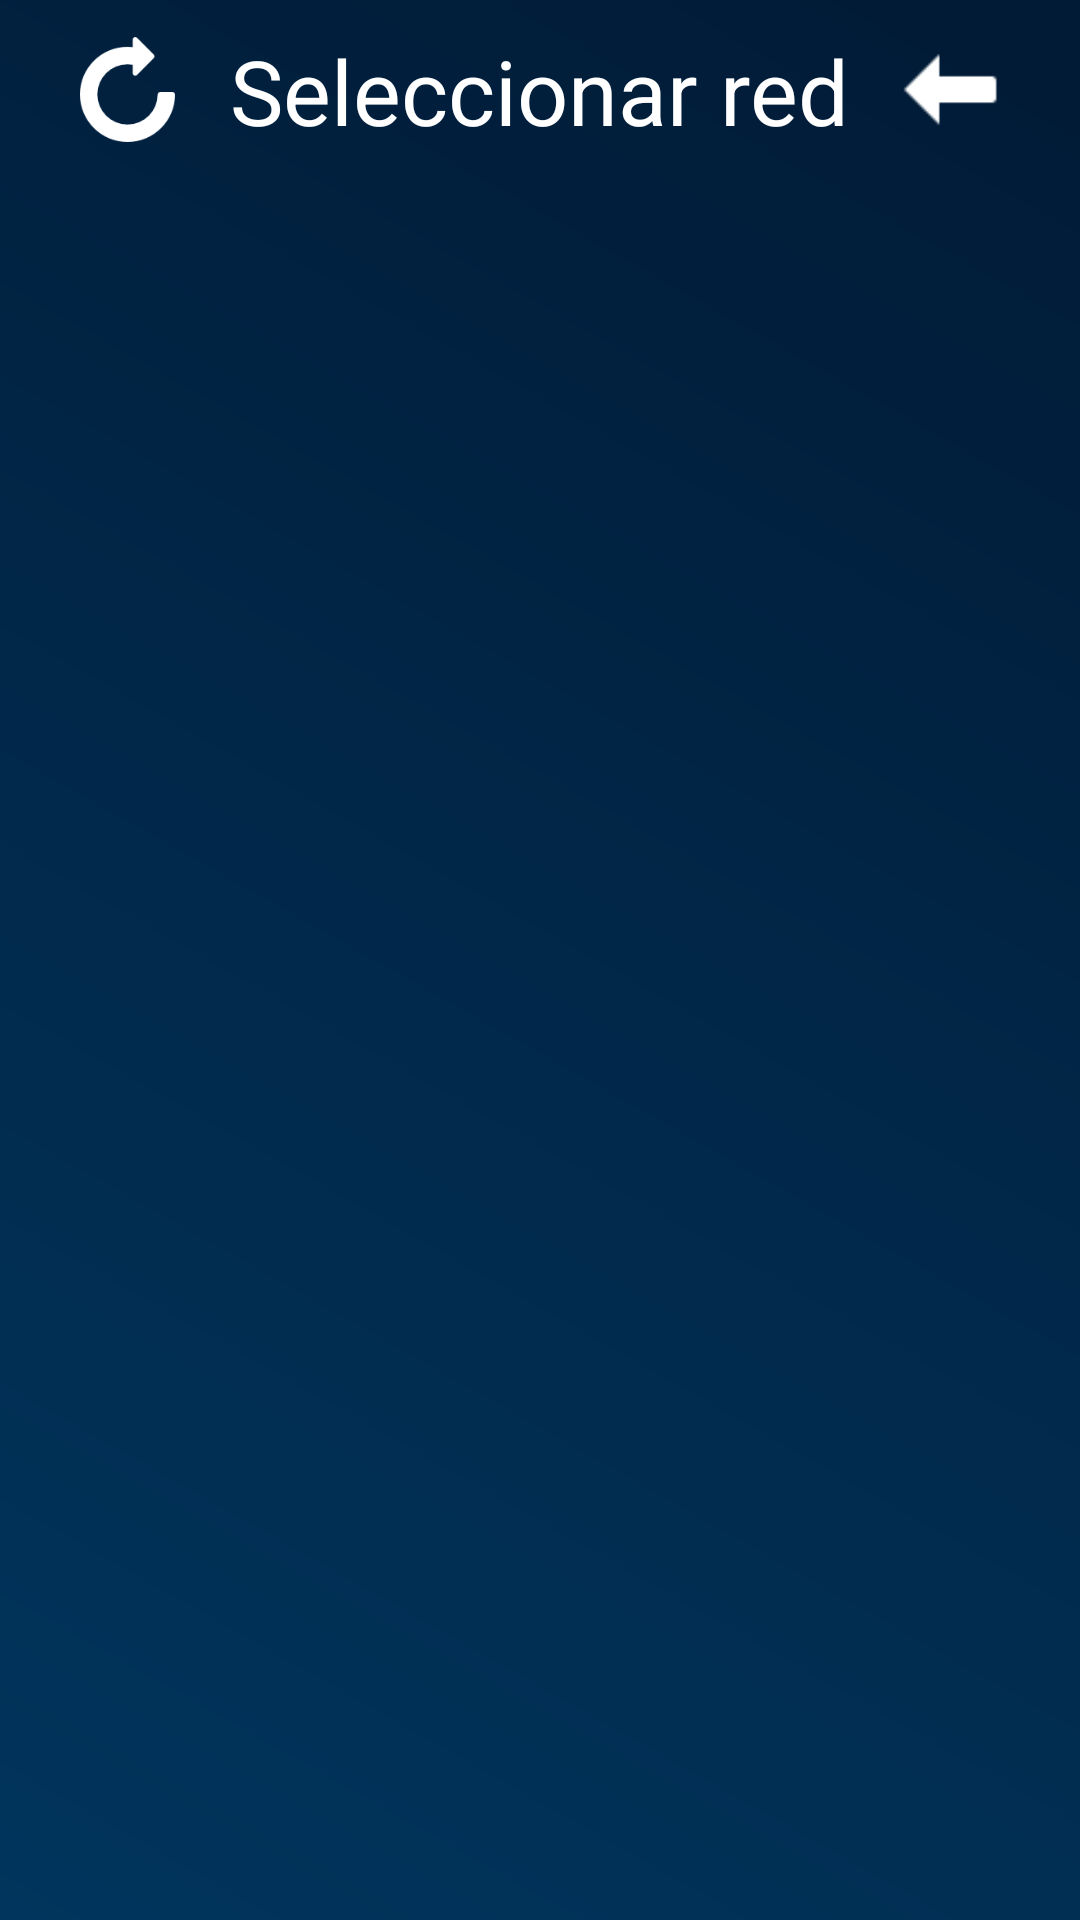

Where icons sit on this 1080x1920 app screen, as (x1, y1, x2, y2):
back: (904, 54, 997, 125)
update: (80, 37, 175, 142)
